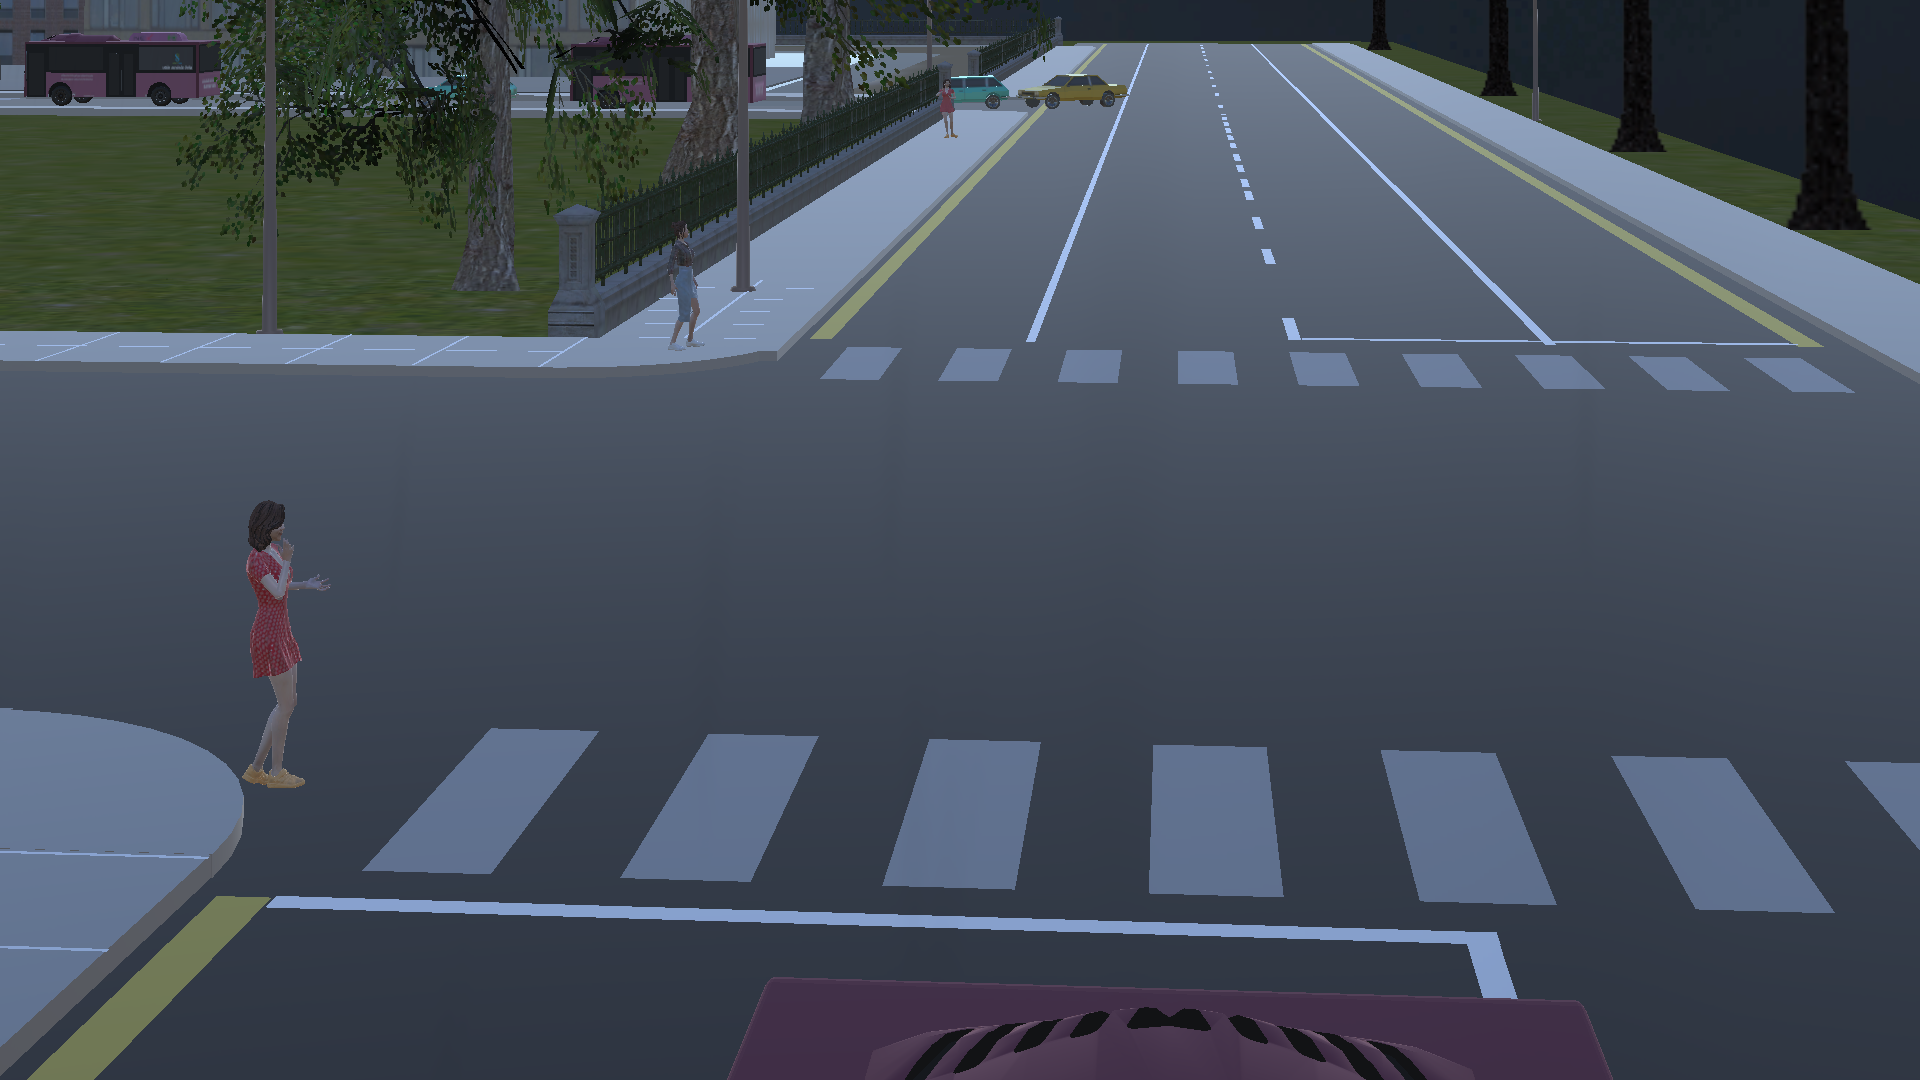pedestrian: (207, 479, 329, 812), (658, 216, 720, 358), (931, 64, 970, 144)
